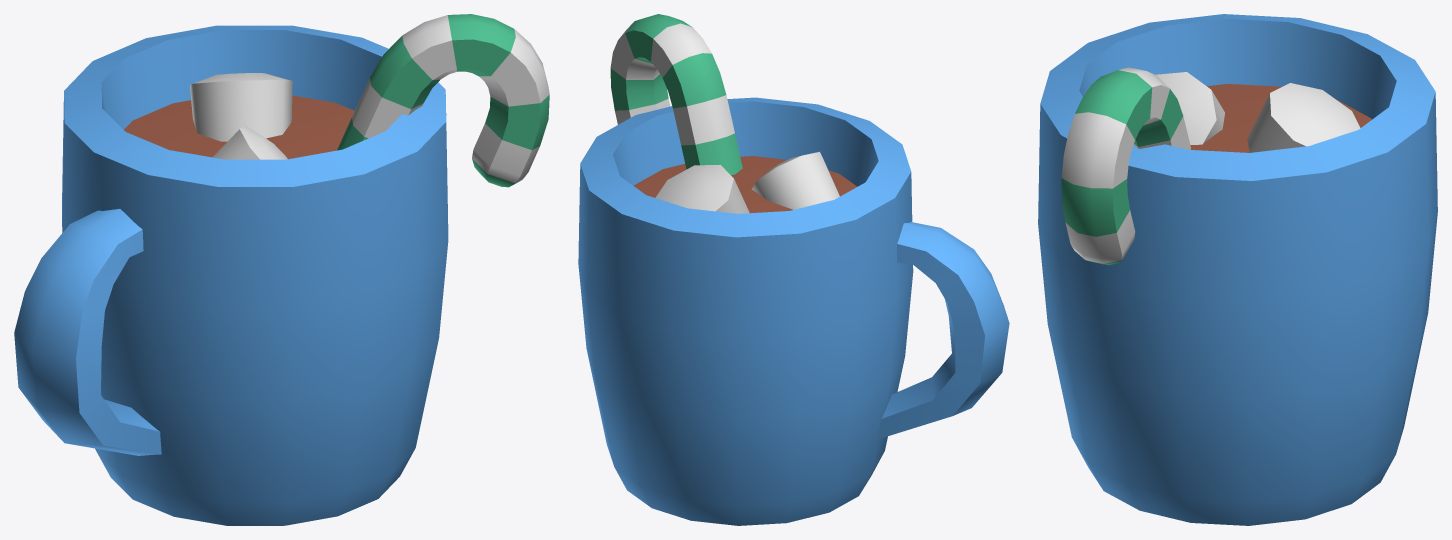
Rendered from hotChocolateMugB.gltf.glb.
3 views of the same model, side by side, from view 1: azimuth 30°, elevation 25°; view 2: azimuth 150°, elevation 25°; view 3: azimuth 270°, elevation 25° (orthographic). The views are drawn at different scales.
Parts seen in each view (by area): view 1: hotChocolateMugB; view 2: hotChocolateMugB; view 3: hotChocolateMugB.
Part boxes in pixels (<box>): hotChocolateMugB: <box>14,14,549,525</box>; hotChocolateMugB: <box>578,14,1009,525</box>; hotChocolateMugB: <box>1038,14,1437,525</box>.
Size of the model in its own units: 0.5161 by 0.4568 by 0.3598.
